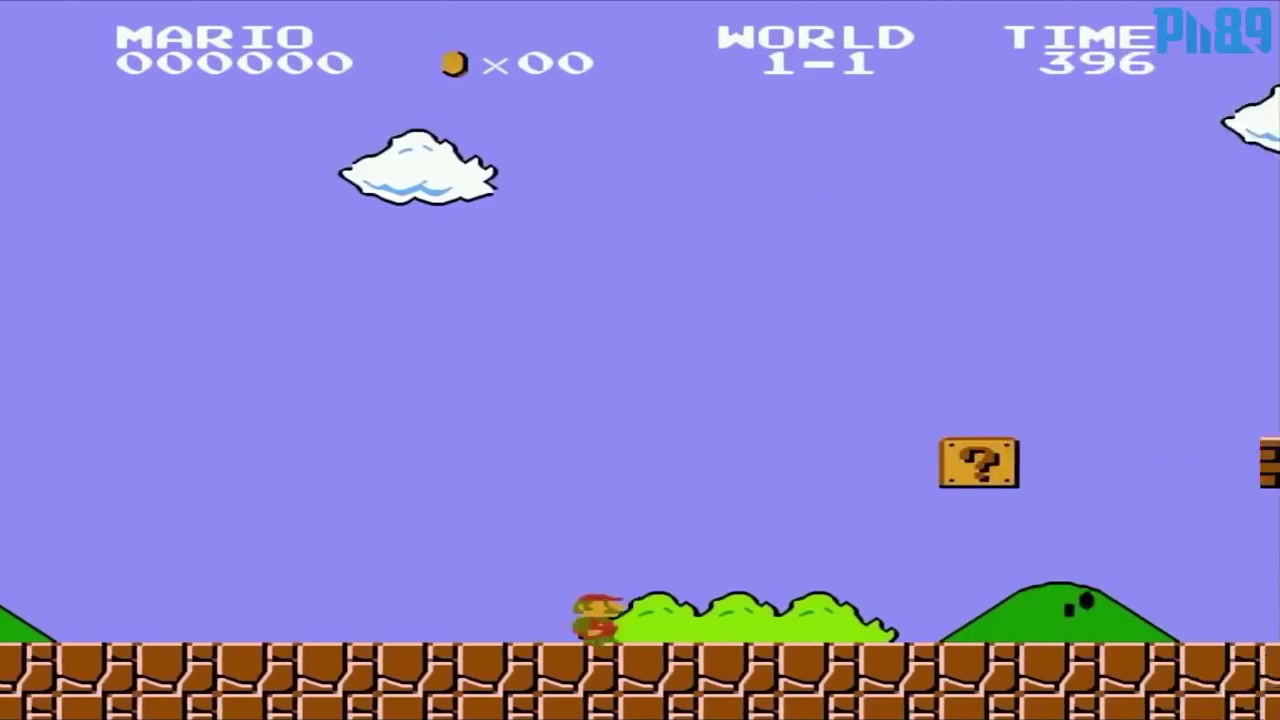mario: (555, 581, 630, 649)
